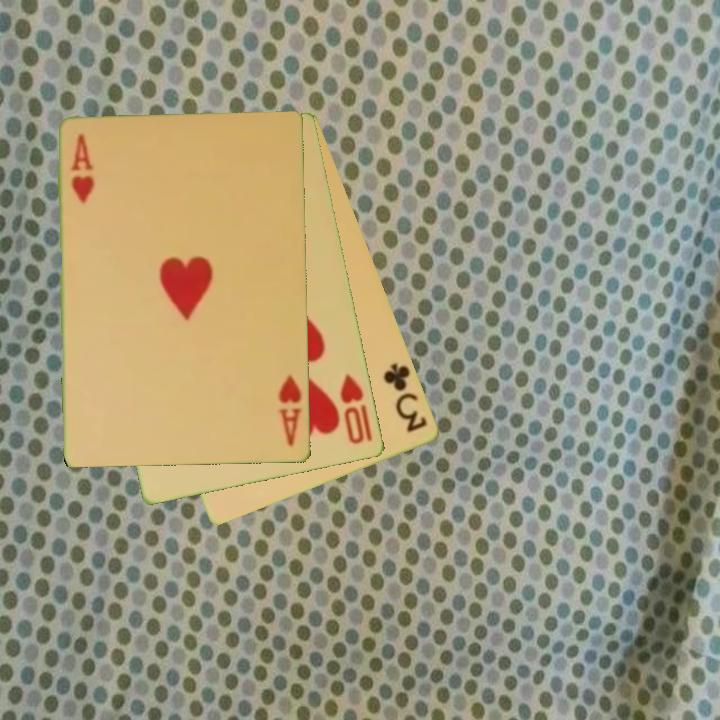10h: (337, 370, 376, 448)
3c: (380, 359, 431, 436)
Ah: (275, 372, 305, 449), (68, 131, 95, 207)
